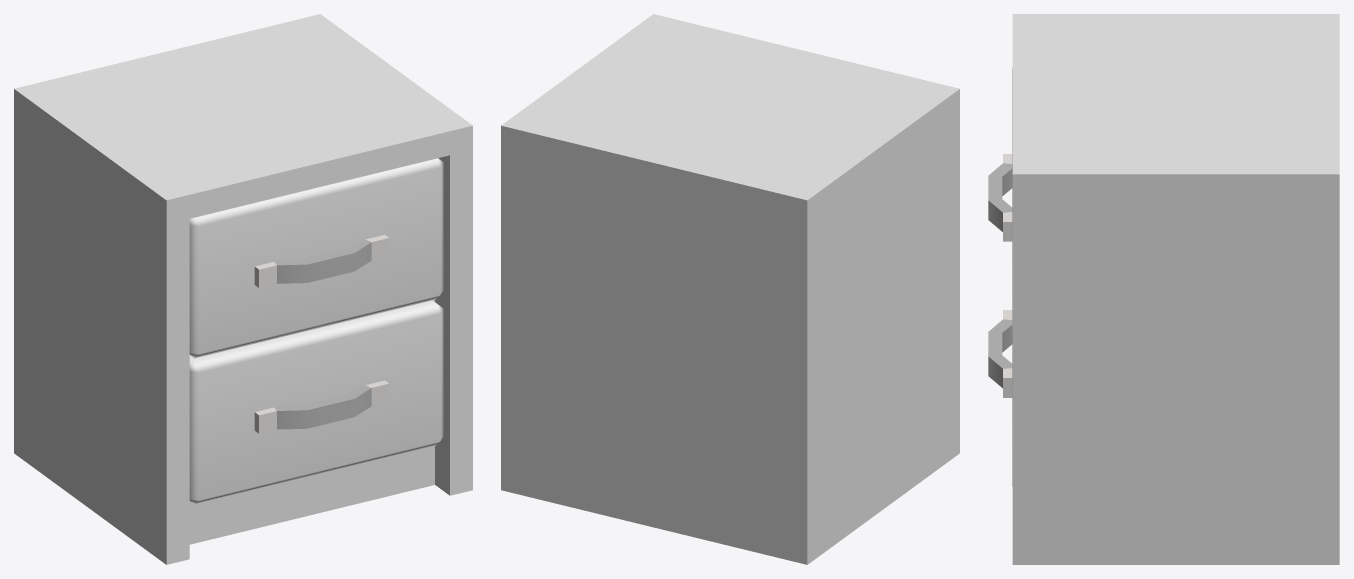
The model's file is dresser_006.fbx.
3 renders of one model, left to right at view 1: azimuth 30°, elevation 25°; view 2: azimuth 150°, elevation 25°; view 3: azimuth 270°, elevation 25°, orthographic. The views are drawn at different scales.
Visible parts, largest first — view 1: dresser_006; view 2: dresser_006; view 3: dresser_006.
Part boxes in pixels (bbox=[...]): dresser_006: bbox=[14, 14, 472, 564]; dresser_006: bbox=[501, 14, 959, 564]; dresser_006: bbox=[988, 14, 1339, 564].
Bounding box in the file's own units: 62.43 × 57.78 × 70.97.
